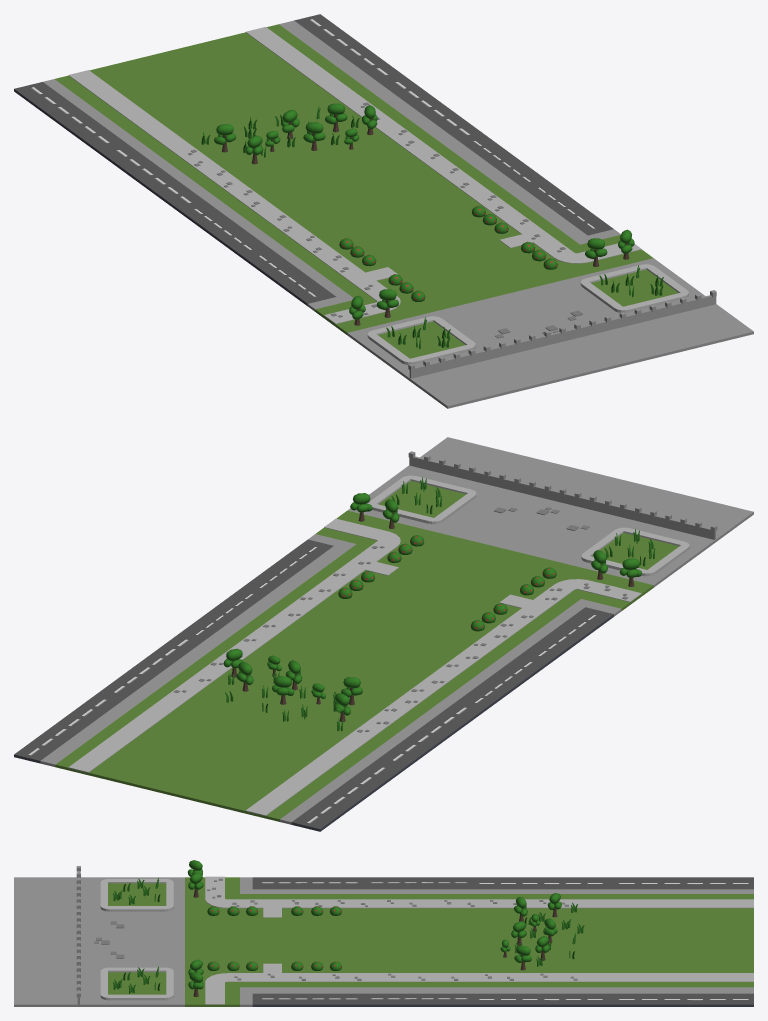
Rendered from Map_Outside.fbx.
3 renders of one model, top to bottom at view 1: azimuth 30°, elevation 25°; view 2: azimuth 150°, elevation 25°; view 3: azimuth 270°, elevation 25°, orthographic. The views are drawn at different scales.
Parts seen in each view (by area): view 1: Map_Outside; view 2: Map_Outside; view 3: Map_Outside.
Part boxes in pixels (x1,y1,x2,y2): Map_Outside: (14,14,753,408); Map_Outside: (14,437,753,831); Map_Outside: (14,860,753,1006).
Size of the model in its own units: 110 by 10.14 by 270.
